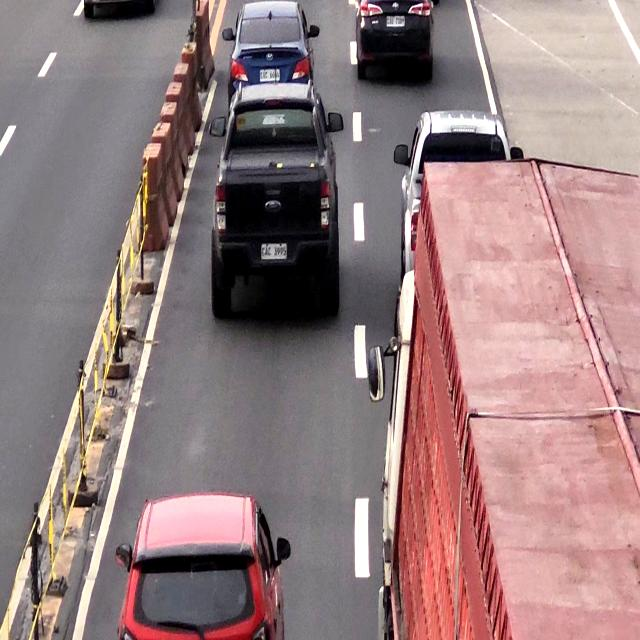Car: (213, 84, 344, 316), (120, 490, 289, 640), (231, 0, 314, 86), (352, 0, 432, 84)
License-Plate: (260, 240, 289, 262), (260, 67, 283, 83)
Truck: (407, 167, 640, 640)
